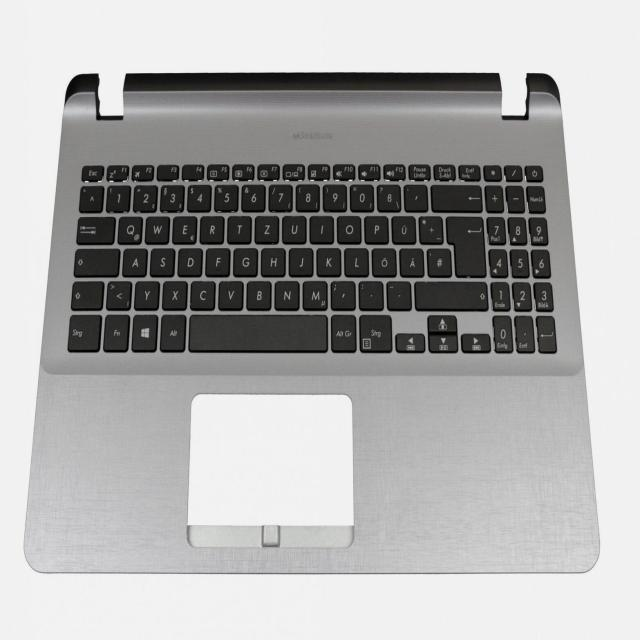0: (349, 182, 373, 210)
1: (105, 183, 130, 211)
2: (132, 183, 157, 211)
3: (159, 183, 184, 211)
4: (186, 183, 210, 210)
5: (213, 183, 238, 210)
6: (240, 182, 265, 210)
7: (267, 182, 292, 210)
8: (294, 181, 319, 210)
9: (322, 181, 346, 210)
a: (121, 246, 147, 275)
accent: (403, 183, 427, 210)
ae: (398, 245, 423, 276)
alt-left: (159, 312, 186, 351)
altgr-right: (329, 312, 356, 351)
b: (245, 279, 271, 309)
c: (188, 278, 215, 309)
caret: (78, 183, 103, 211)
comma: (329, 279, 355, 309)
d: (176, 246, 202, 276)
del: (429, 182, 481, 211)
e: (171, 213, 196, 243)
enter: (445, 214, 485, 276)
f: (205, 245, 230, 275)
g: (232, 245, 257, 275)
h: (259, 245, 285, 275)
hash: (425, 246, 451, 276)
i: (308, 213, 333, 242)
j: (287, 245, 313, 275)
k: (315, 245, 340, 275)
keyboard: (58, 156, 568, 374)
l: (343, 245, 368, 275)
less: (105, 279, 131, 309)
m: (302, 278, 328, 309)
minus: (385, 279, 411, 309)
n: (273, 278, 299, 309)
o: (336, 213, 361, 242)
oe: (371, 245, 396, 275)
p: (364, 213, 388, 242)
plus: (417, 213, 442, 243)
point: (357, 279, 383, 309)
q: (116, 213, 142, 243)
r: (199, 213, 223, 242)
s: (148, 246, 174, 275)
shift-left: (69, 279, 103, 309)
shift-lock: (72, 246, 119, 275)
shift-right: (412, 279, 487, 309)
space: (189, 312, 328, 352)
ss: (376, 182, 400, 210)
strg-left: (66, 313, 101, 351)
strg-right: (358, 312, 392, 352)
t: (226, 213, 251, 242)
tab: (75, 214, 115, 243)
u: (281, 213, 306, 242)
ue: (390, 213, 415, 243)
v: (217, 278, 243, 309)
w: (144, 213, 169, 243)
x: (161, 278, 187, 309)
y: (133, 279, 158, 309)
z: (253, 213, 278, 242)
